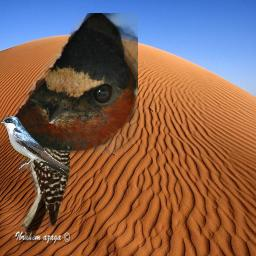Swallow: (14, 13, 138, 154), (0, 116, 70, 174)
Woodpecker: (21, 114, 70, 245)
